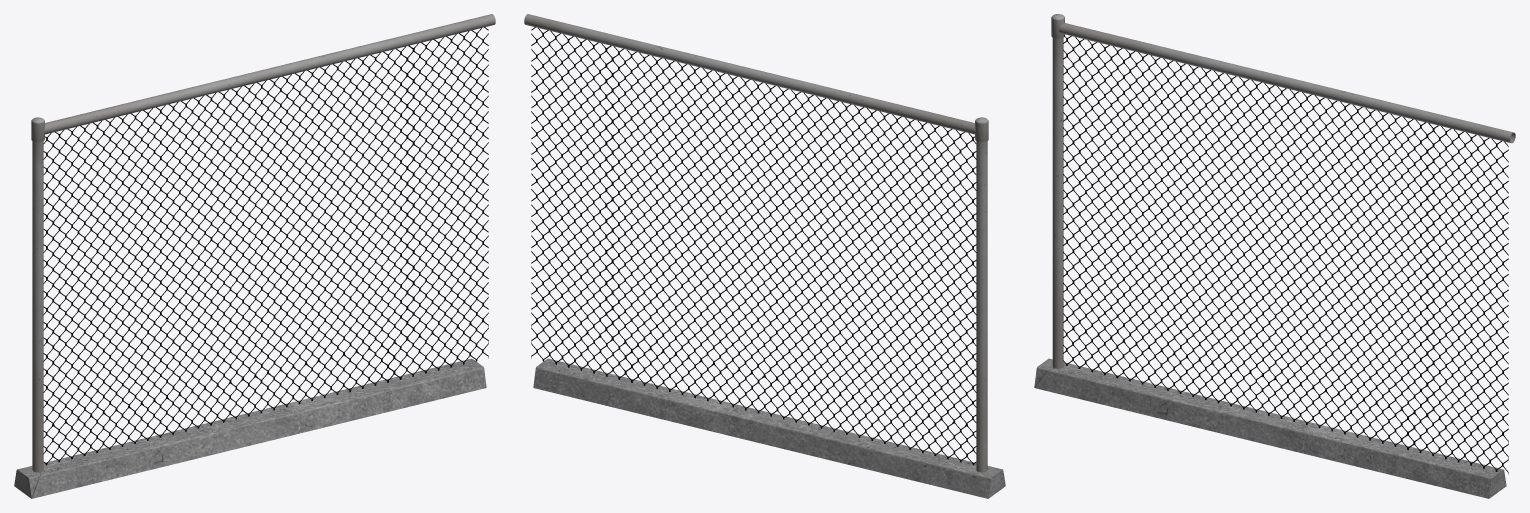
The model's file is chain_curb_straight.fbx.
3 renders of one model, left to right at view 1: azimuth 30°, elevation 25°; view 2: azimuth 150°, elevation 25°; view 3: azimuth 330°, elevation 25°, orthographic.
Parts seen in each view (by area): view 1: chain_curb_straight; view 2: chain_curb_straight; view 3: chain_curb_straight.
Part boxes in pixels (box(x1,y1,x2,y2)): chain_curb_straight: box(14, 14, 495, 498); chain_curb_straight: box(524, 14, 1005, 498); chain_curb_straight: box(1034, 14, 1515, 498).
Size of the model in its own units: 3.1 by 2.33 by 0.2.
2 materials, 2 textured.
